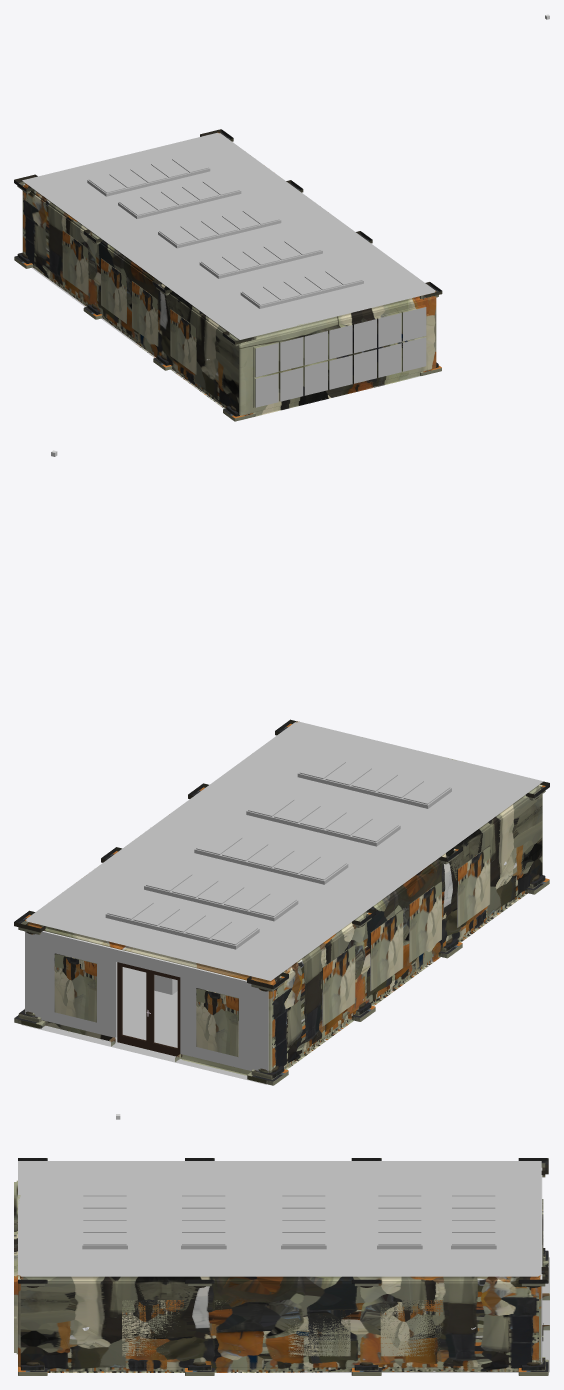
3 renders of one model, top to bottom at view 1: azimuth 30°, elevation 25°; view 2: azimuth 150°, elevation 25°; view 3: azimuth 270°, elevation 25°, orthographic. The views are drawn at different scales.
Parts seen in each view (by area): view 1: Cube.005, Cube.001, Cube.006; view 2: Cube.005, Cube.001, Cube.006, Cube.010, _(Loose_Entity); view 3: Cube.001, Cube.005, Cube.006, Cube.010.
Part boxes in pixels (<box>): Cube.005: <box>22,133,435,408</box>; Cube.001: <box>14,129,442,421</box>; Cube.006: <box>87,154,426,407</box>; Cube.005: <box>21,722,543,1084</box>; Cube.001: <box>14,719,549,1085</box>; Cube.006: <box>105,756,451,949</box>; Cube.010: <box>25,931,268,1072</box>; _(Loose_Entity): <box>117,962,182,1057</box>; Cube.001: <box>14,1158,549,1375</box>; Cube.005: <box>18,1161,549,1372</box>; Cube.006: <box>82,1184,496,1249</box>; Cube.010: <box>540,1168,542,1363</box>.
Bounding box in the file's own units: 22710 × 17624 × 24663.
